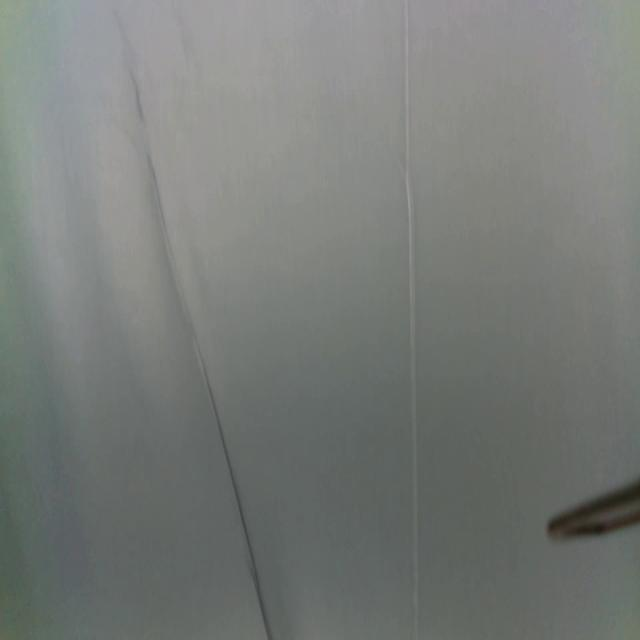crease: (114, 7, 269, 640), (404, 0, 421, 640)
